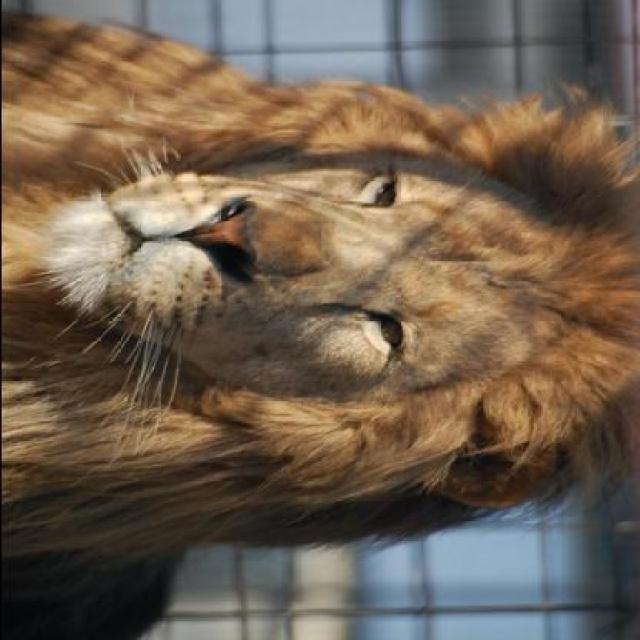Lion: (1, 32, 632, 570)
